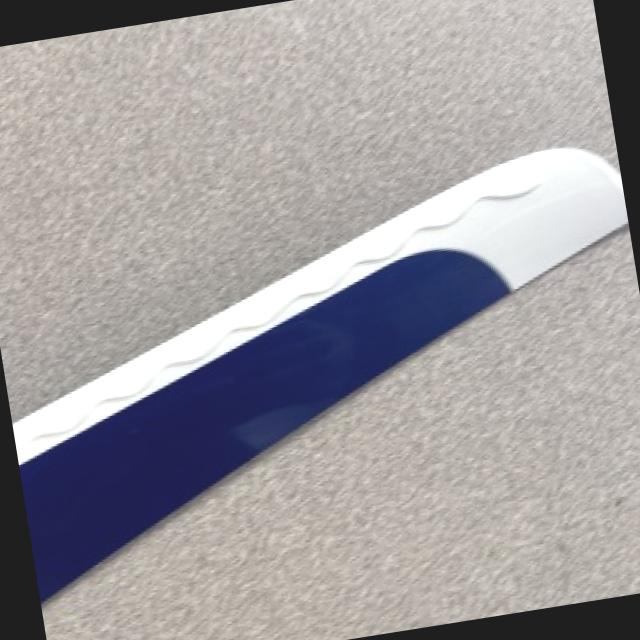healthy: (16, 146, 622, 598)
